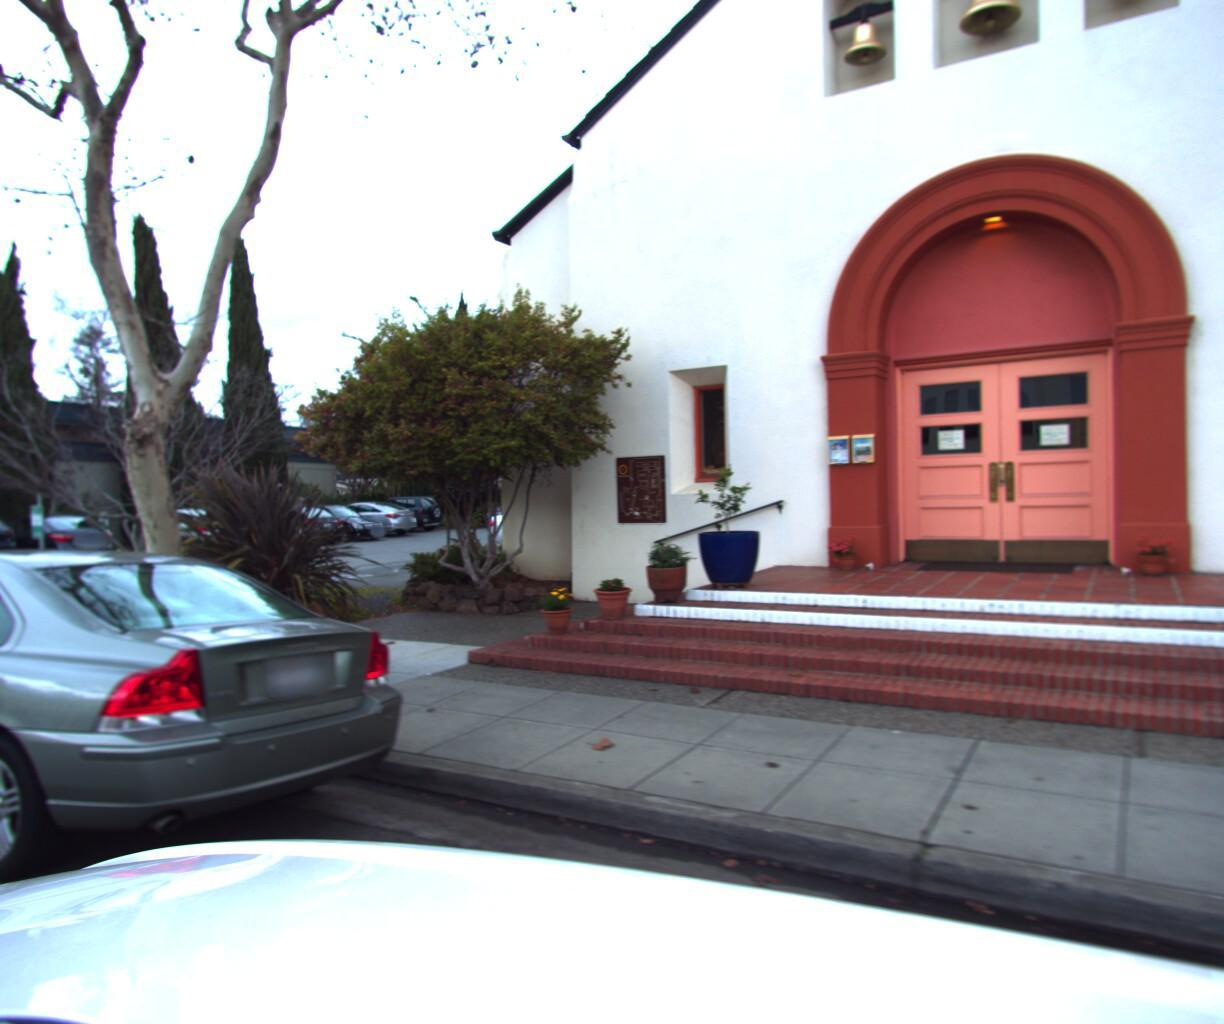car: (0, 532, 444, 958), (0, 508, 129, 570), (0, 498, 33, 581)
